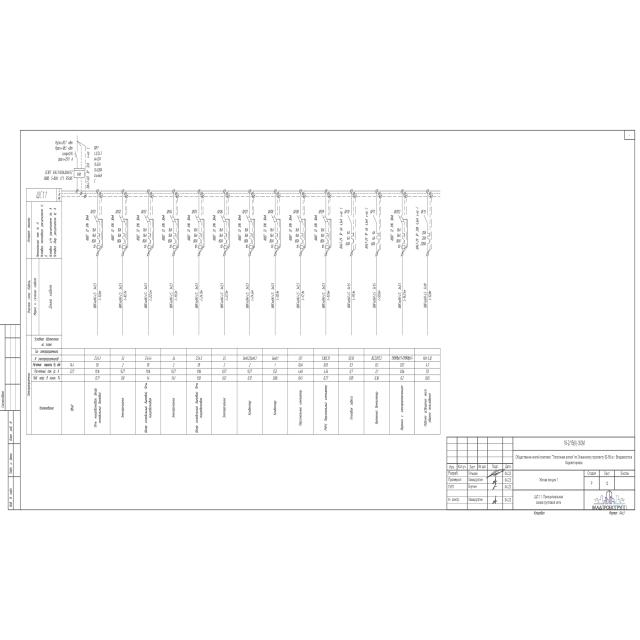-: (414, 206, 426, 250), (339, 207, 351, 250), (364, 208, 376, 250), (389, 215, 402, 249), (212, 214, 224, 250), (236, 214, 248, 250), (186, 214, 198, 250), (161, 214, 173, 250), (110, 214, 122, 250), (288, 215, 300, 250), (263, 214, 275, 249), (313, 214, 325, 249), (136, 214, 148, 249), (85, 214, 96, 248), (44, 170, 74, 180), (86, 146, 90, 190), (36, 190, 48, 200)
QF: (346, 214, 354, 248), (424, 214, 432, 248), (372, 214, 379, 248), (74, 150, 78, 160)
QFD: (246, 214, 256, 250), (271, 214, 281, 250), (296, 214, 306, 250), (93, 214, 103, 250), (119, 214, 129, 250), (144, 214, 154, 250), (195, 214, 205, 250), (220, 214, 230, 249), (322, 214, 332, 249), (398, 214, 408, 249), (170, 214, 180, 248)
WH: (73, 166, 85, 178)
